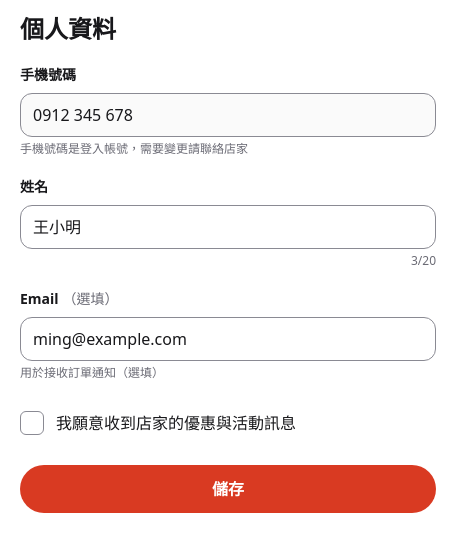
Test: ProfilePage › Email 格式錯誤：欄位錯誤，不呼叫 API
Replace the text in the field labelled "Email（選填）" with "not-an-email" at (228, 339), box [20, 317, 436, 361]
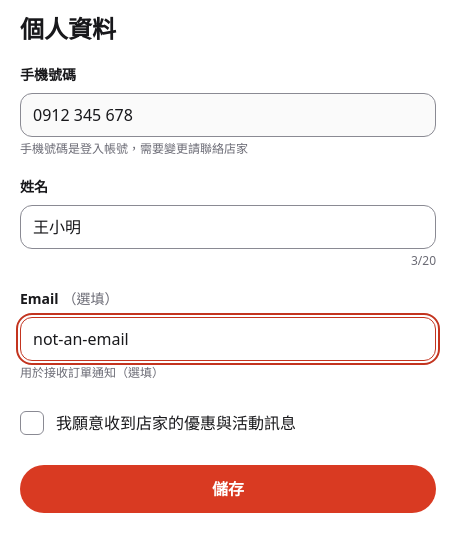
Click the button "儲存" at (228, 489), box [20, 465, 436, 513]
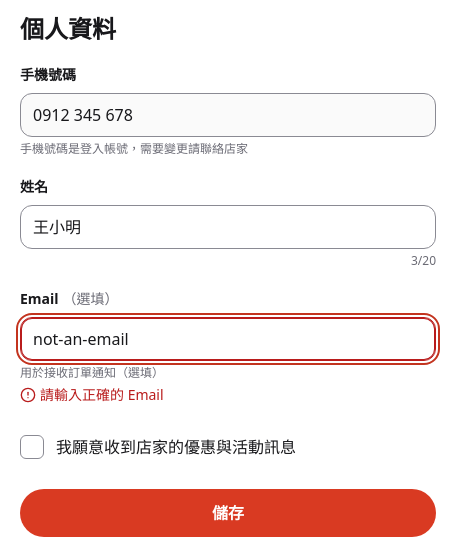
Now the text "請輸入正確的 Email" is shown, box [40, 385, 164, 405]
